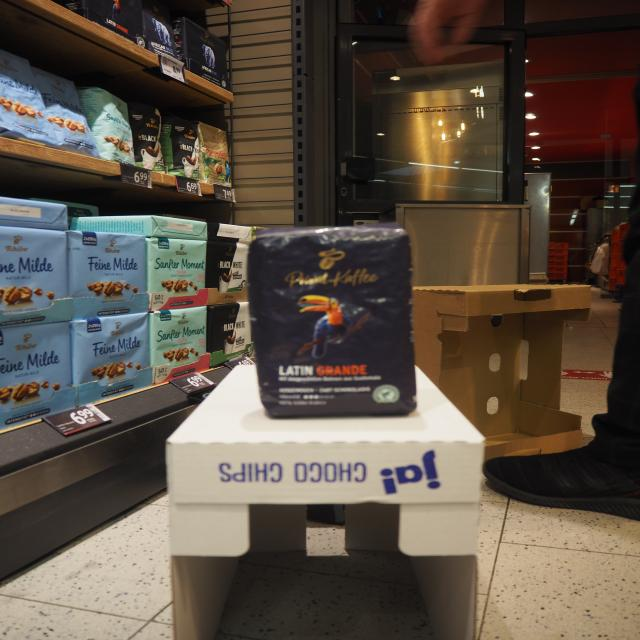LG Bohne: (246, 225, 423, 422)
